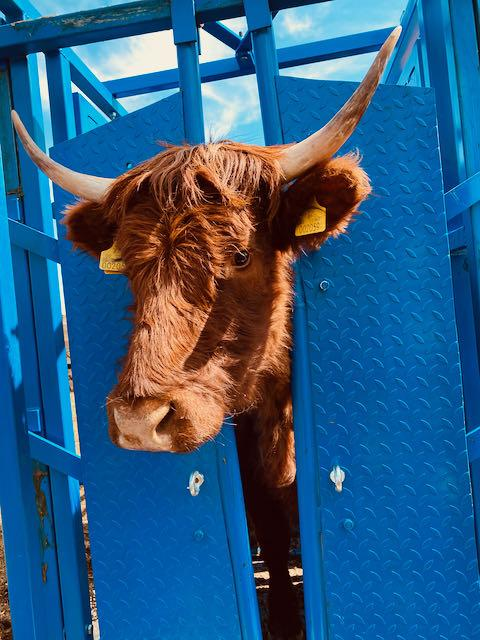muzzles: (94, 396, 212, 463)
